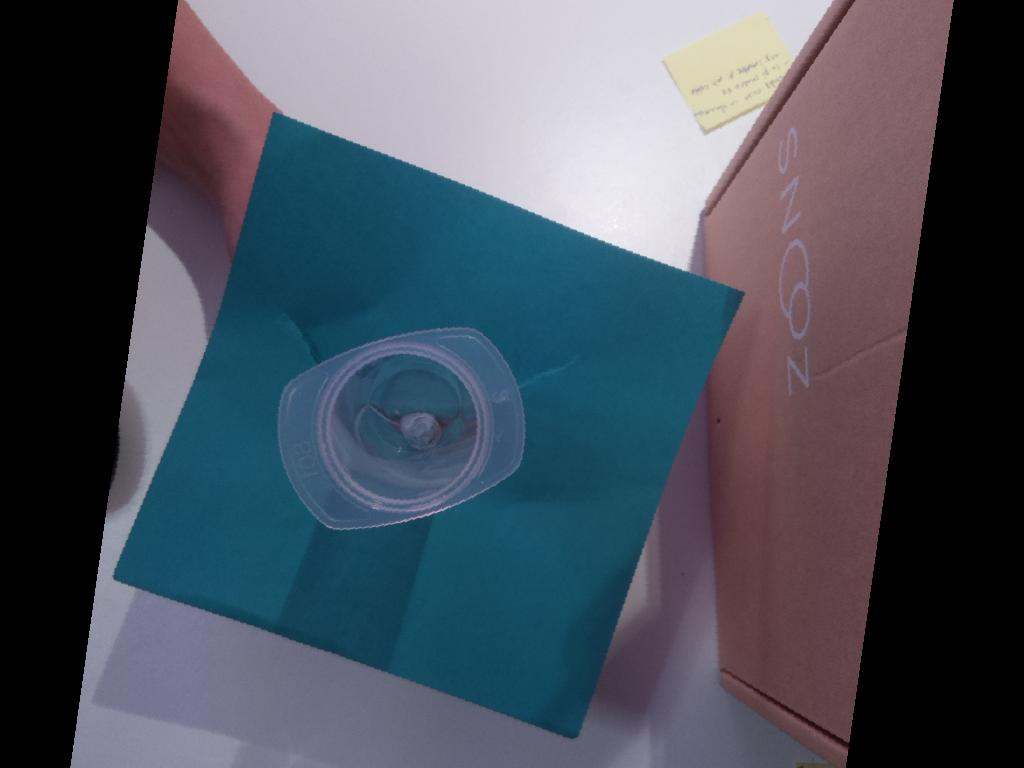clean: (270, 325, 531, 535)
